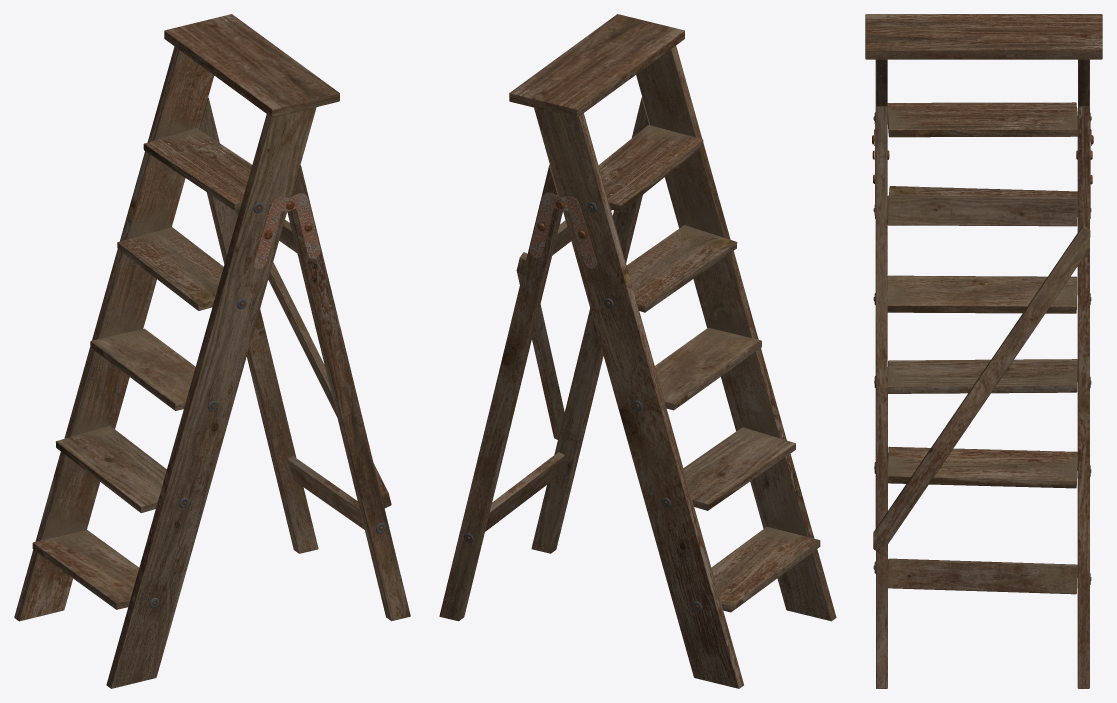
File: wooden_ladder_02.glb
3 views of the same model, side by side, from view 1: azimuth 30°, elevation 25°; view 2: azimuth 150°, elevation 25°; view 3: azimuth 270°, elevation 25° (orthographic). The views are drawn at different scales.
Visible parts, largest first — view 1: wooden_ladder_02; view 2: wooden_ladder_02; view 3: wooden_ladder_02.
Part boxes in pixels (x1,y1,x2,y2): wooden_ladder_02: [14, 14, 410, 688]; wooden_ladder_02: [439, 14, 836, 688]; wooden_ladder_02: [865, 14, 1102, 688].
Size of the model in its own units: 0.9895 by 1.72 by 0.6181.
1 material, 1 textured.
